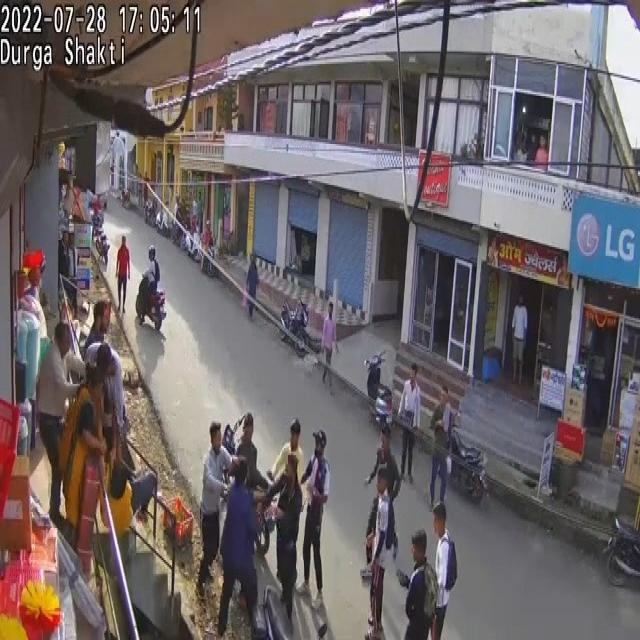fight: (196, 400, 330, 614), (63, 342, 142, 564), (35, 322, 85, 528), (217, 458, 262, 640), (257, 454, 302, 625), (199, 423, 238, 594), (297, 429, 329, 605), (86, 334, 125, 471), (234, 414, 270, 494), (271, 418, 305, 489)
non-fight: (363, 467, 396, 638), (400, 527, 436, 640), (429, 499, 457, 640), (428, 385, 453, 506), (397, 364, 421, 482), (364, 430, 400, 506), (136, 242, 157, 322), (511, 295, 528, 384), (320, 304, 338, 386), (246, 254, 258, 319), (201, 220, 213, 268)
